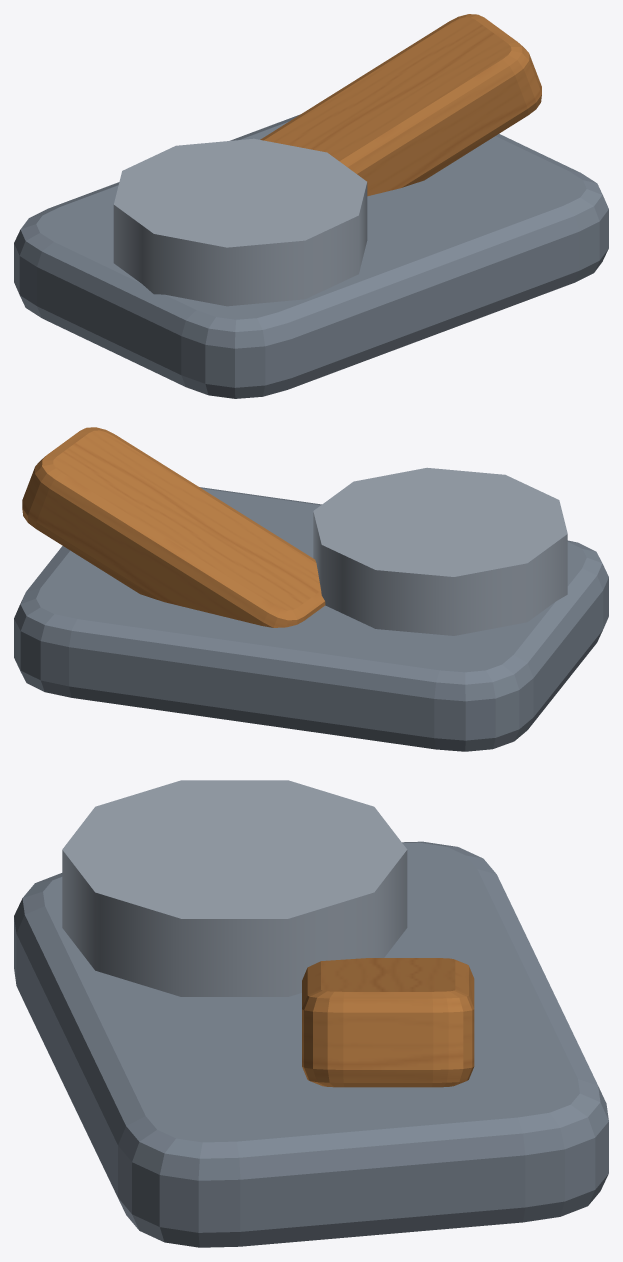
Rendered from scrap.glb.
3 views of the same model, one above another, from view 1: azimuth 30°, elevation 25°; view 2: azimuth 150°, elevation 25°; view 3: azimuth 270°, elevation 25° (orthographic). The views are drawn at different scales.
Bounding box in the file's own units: 0.8004 × 0.2773 × 0.6207.
3 materials, 1 textured.
